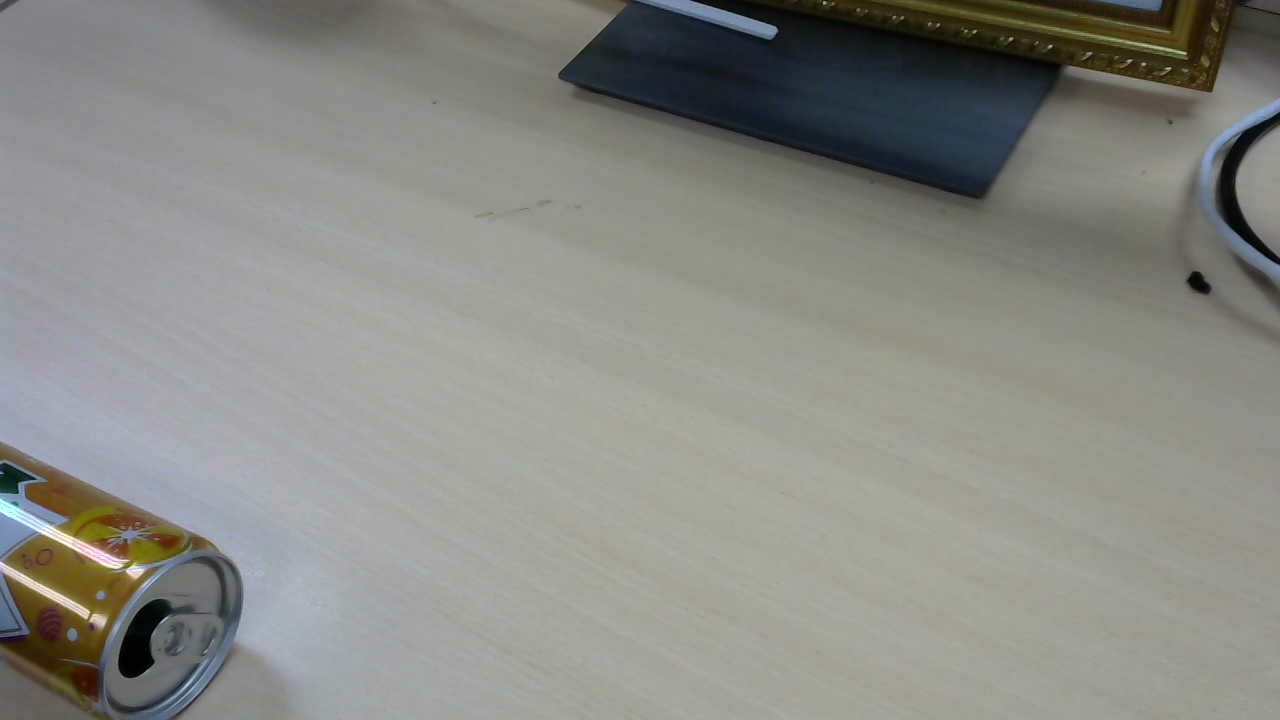Mirinda: (9, 450, 252, 696)
